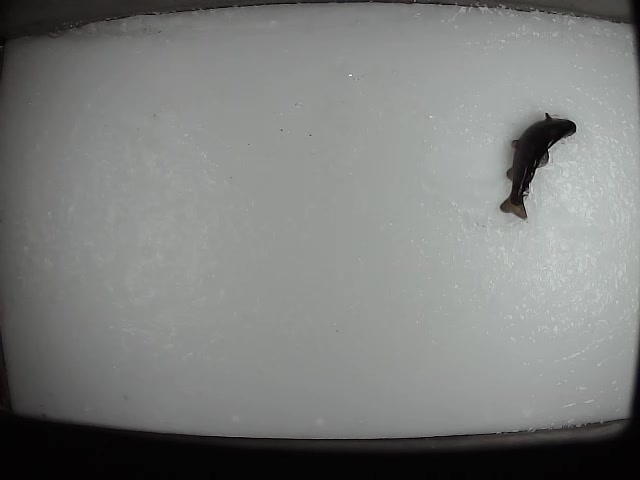Fish: (499, 112, 576, 219)
